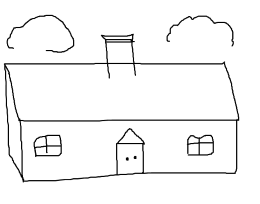chimney: (100, 34, 137, 76)
closed_window: (186, 133, 215, 156), (33, 134, 61, 157)
clouds: (7, 14, 74, 53), (166, 14, 234, 46)
door: (111, 128, 151, 179)
roof: (4, 56, 239, 124)
wall: (16, 113, 241, 181)
